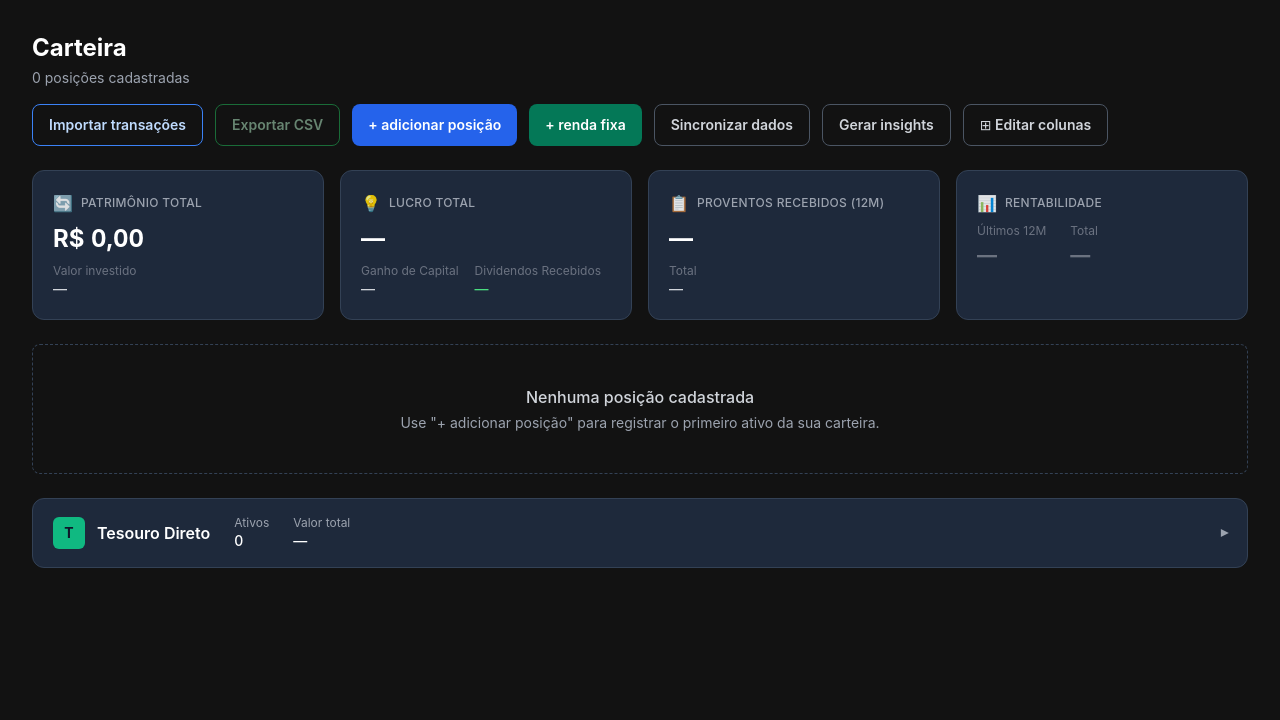
Test: CarteiraPage — ordenação da lista › desabilita exportação sem linhas e mantém ações futuras sem rede
Expected: the text "Nenhuma posição cadastrada" is shown, [526,387,754,407]
Expected: the button "Exportar CSV" is disabled, [215,104,340,146]
Click the button "Sincronizar dados".
click(732, 125)  # box [654,104,810,146]
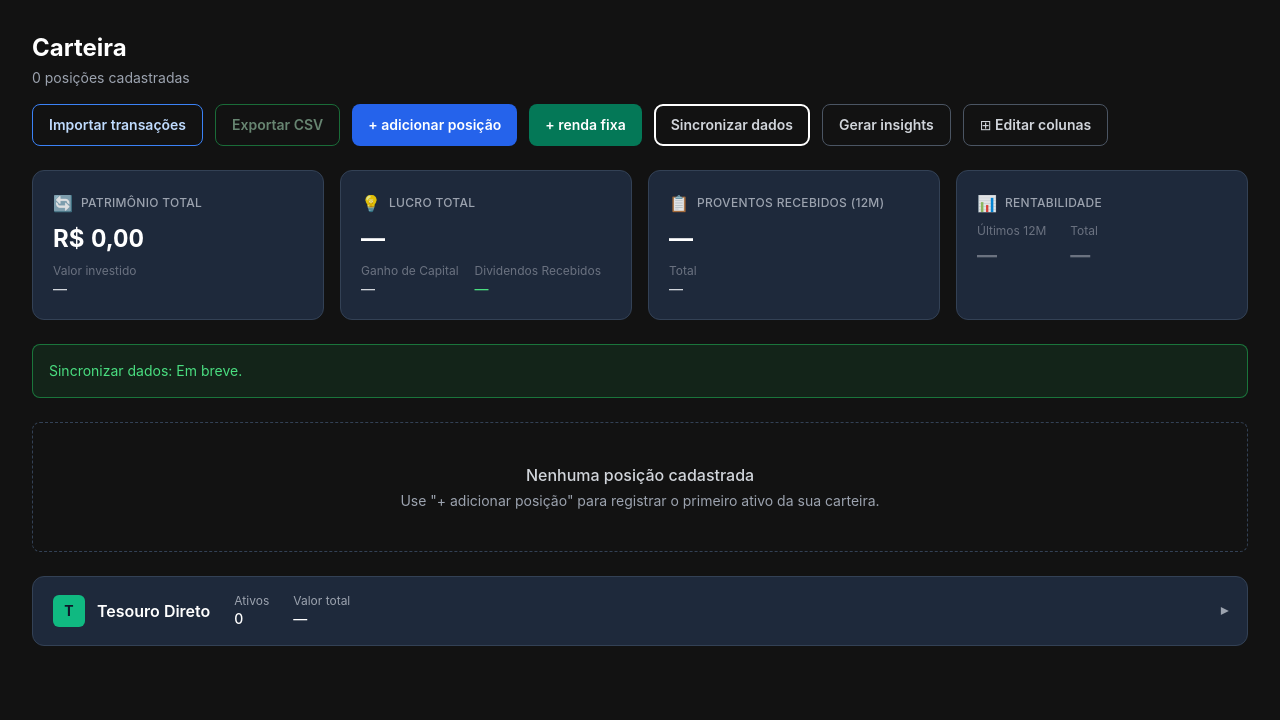
Expected: the message reads "Sincronizar dados: Em breve.", [49,362,242,379]
Click the button "Gerar insights".
click(886, 125)  # box [822,104,951,146]
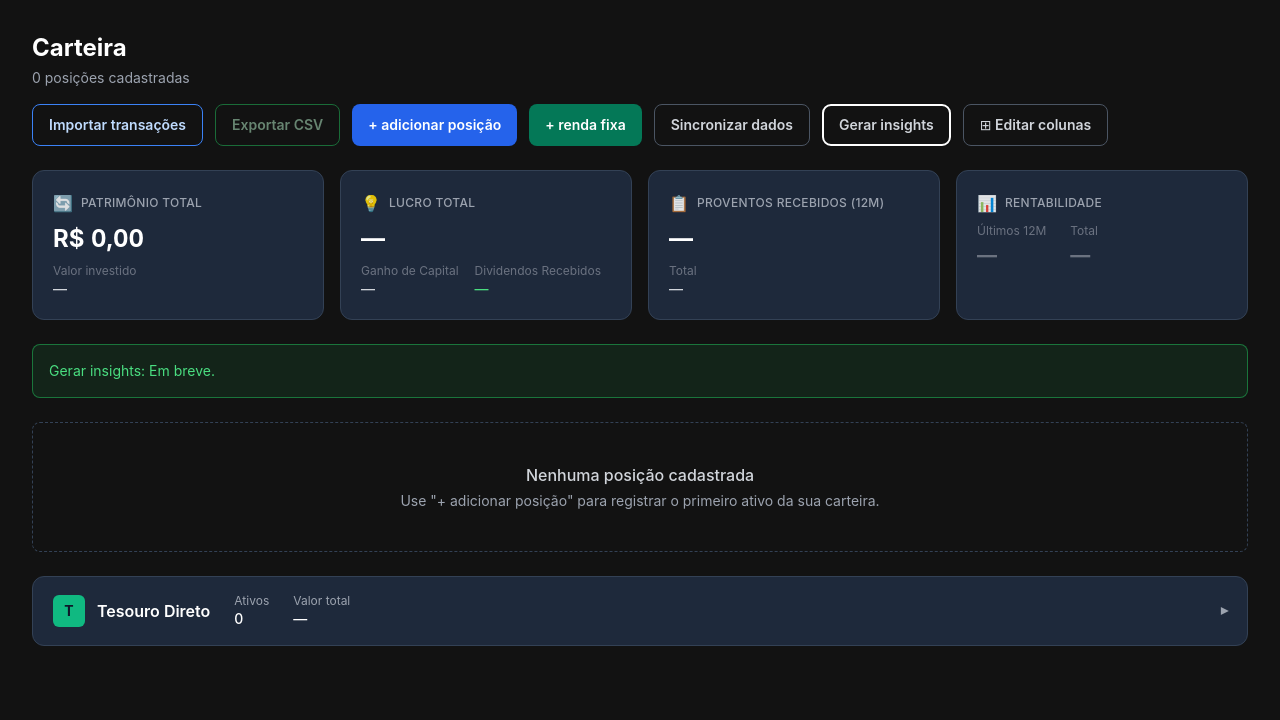
Expected: the message reads "Gerar insights: Em breve.", [49,362,215,379]
